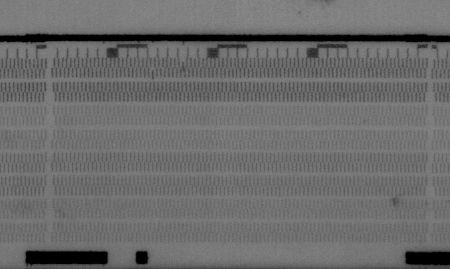Oblique printing: (177, 58, 190, 72), (147, 68, 159, 83)
